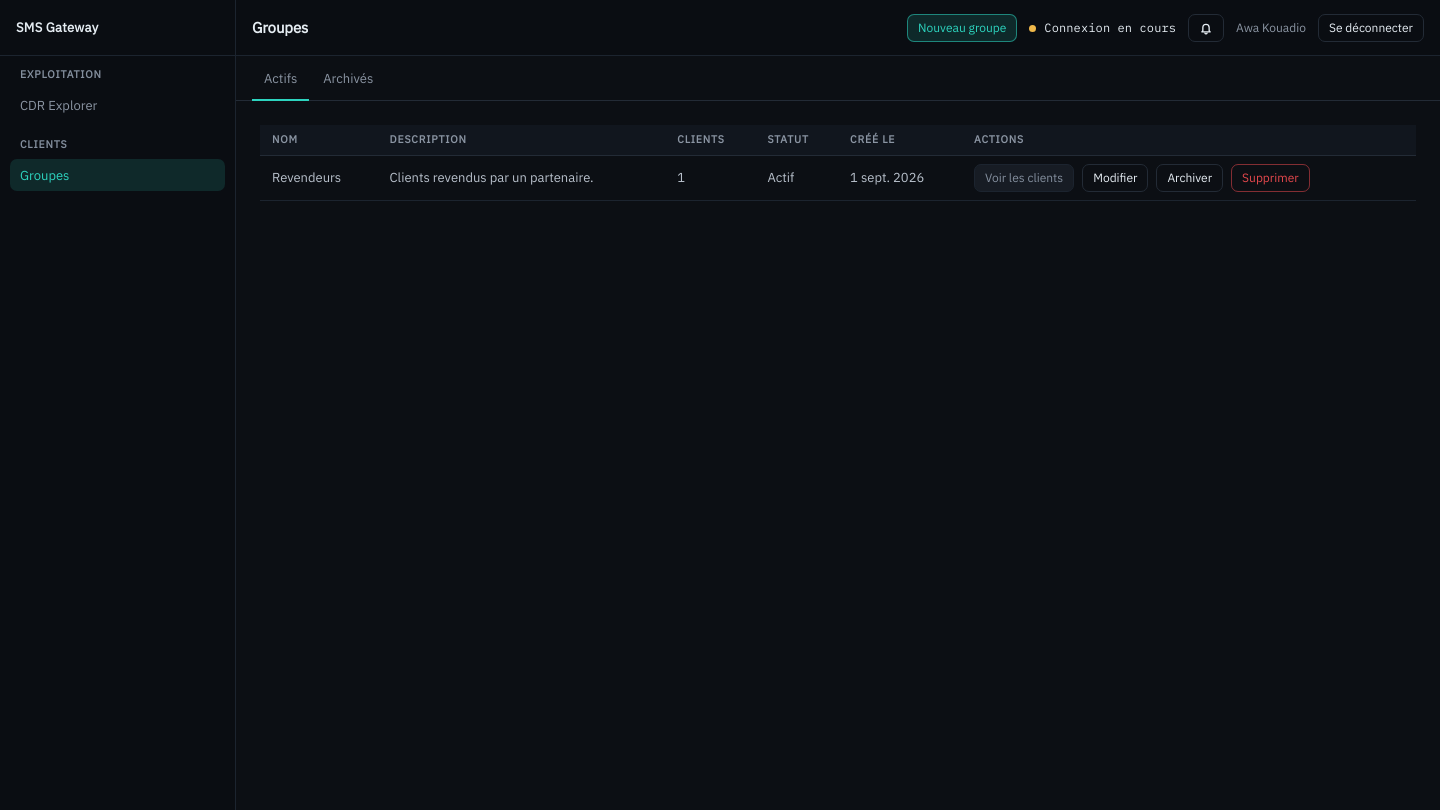
the groups screen › sends nothing when an edit changes nothing
Click the button "Modifier".
click(1115, 178)  # box [1082, 164, 1148, 192]
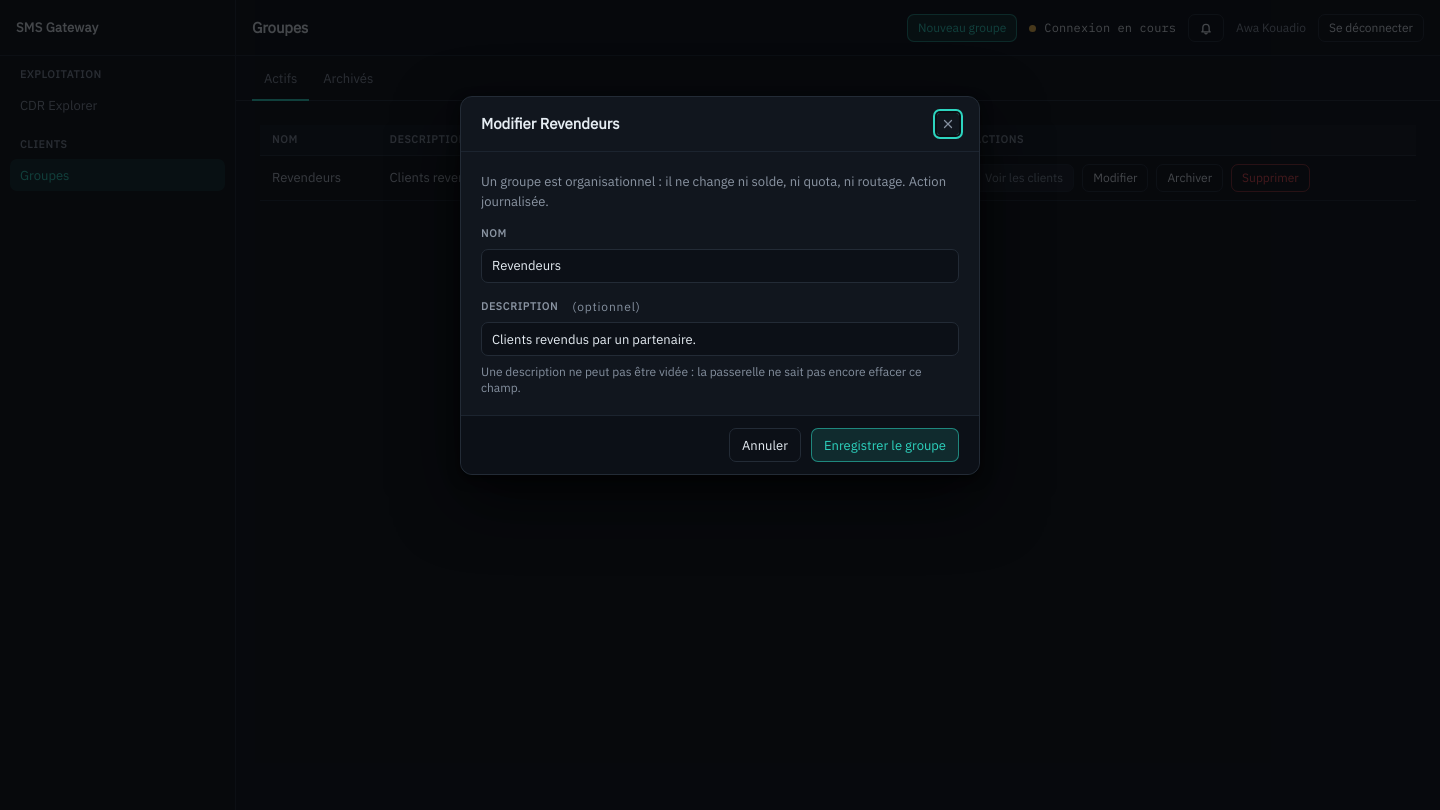
Click the button "Enregistrer le groupe".
click(885, 445)  # box [811, 428, 959, 462]
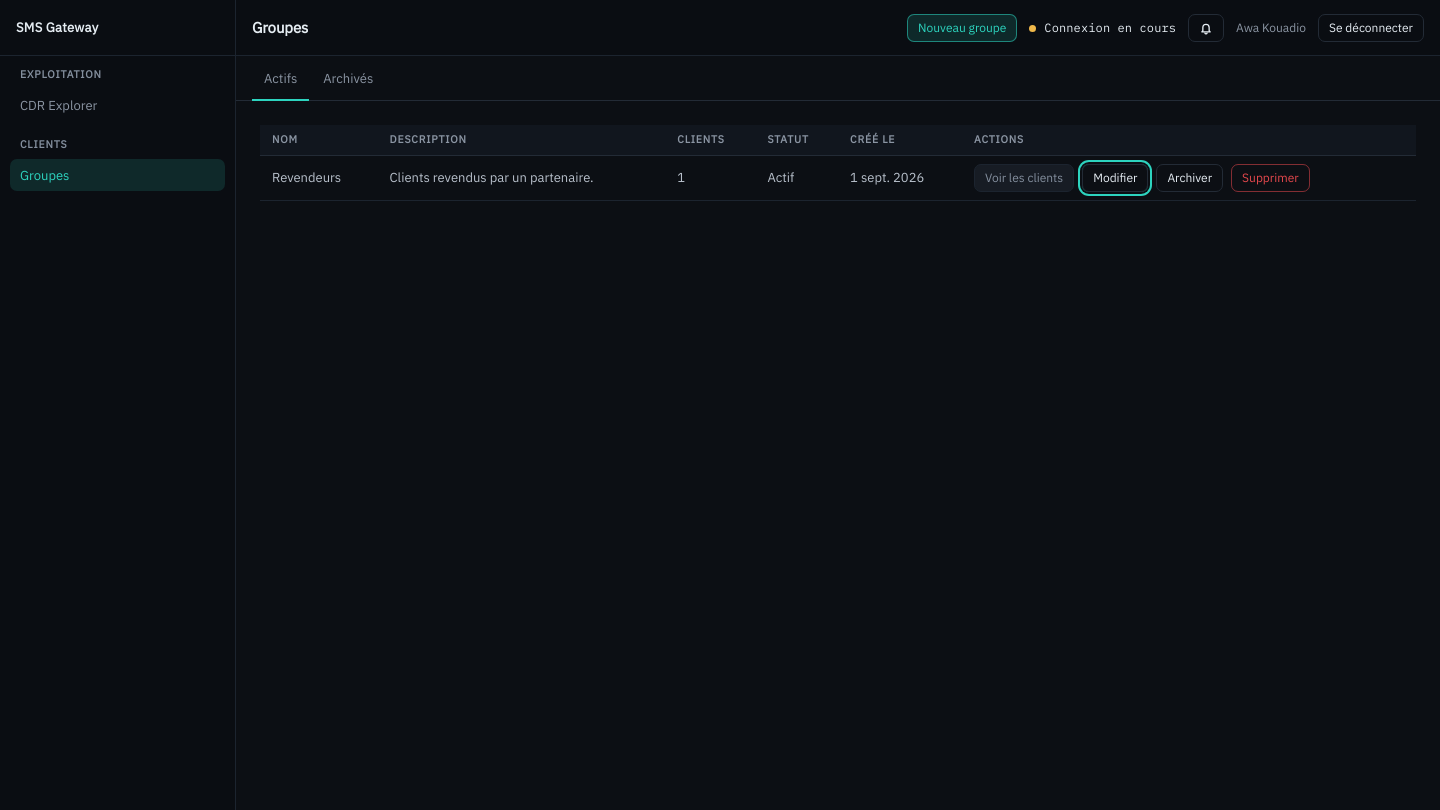
Result: the dialog is gone
